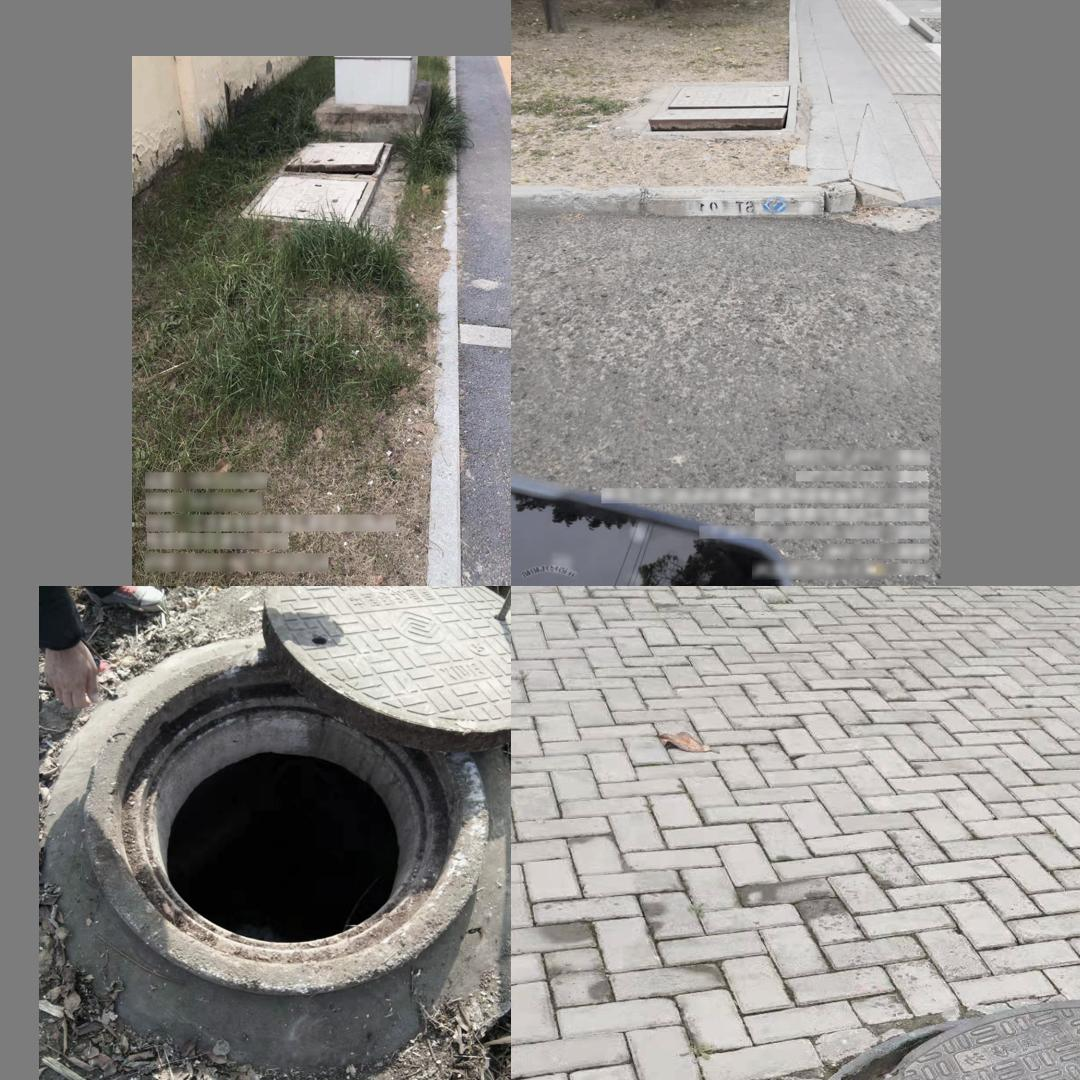good: (238, 173, 377, 230)
uncovered: (81, 586, 507, 991), (787, 999, 1080, 1080), (643, 81, 799, 136), (280, 140, 392, 176)
